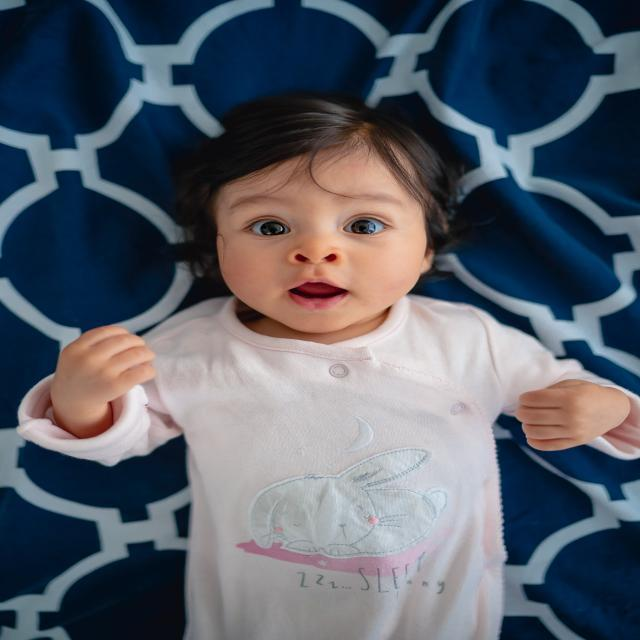non-dog: (16, 98, 640, 629)
